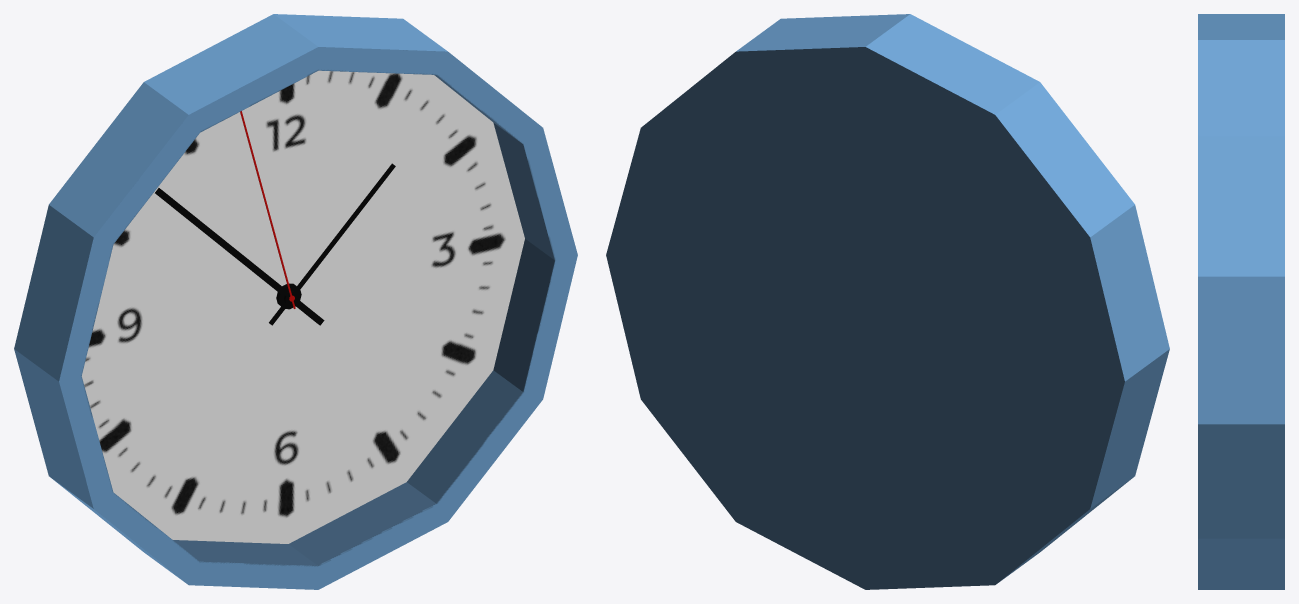
File: Watch_Blue.fbx
The picture shows the model from 3 angles, left to right: view 1: azimuth 30°, elevation 25°; view 2: azimuth 150°, elevation 25°; view 3: azimuth 270°, elevation 25°; orthographic projection. The views are drawn at different scales.
Visible parts, largest first — view 1: Watch.002; view 2: Watch.002; view 3: Watch.002.
Boxes of the visible parts, x1,y1,x2,y2 form: Watch.002: (14, 14, 577, 589); Watch.002: (606, 14, 1169, 589); Watch.002: (1198, 14, 1284, 589).
Bounding box in the file's own units: 30 × 30 × 4.5.
